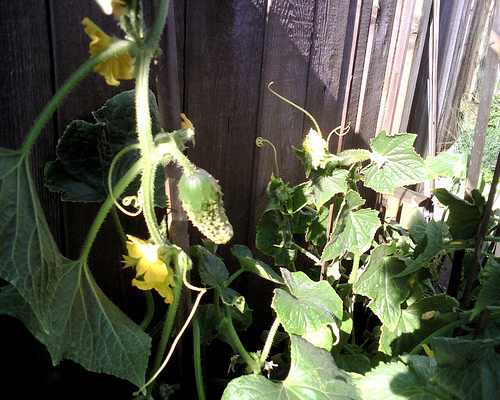cucumber: (176, 166, 235, 246)
